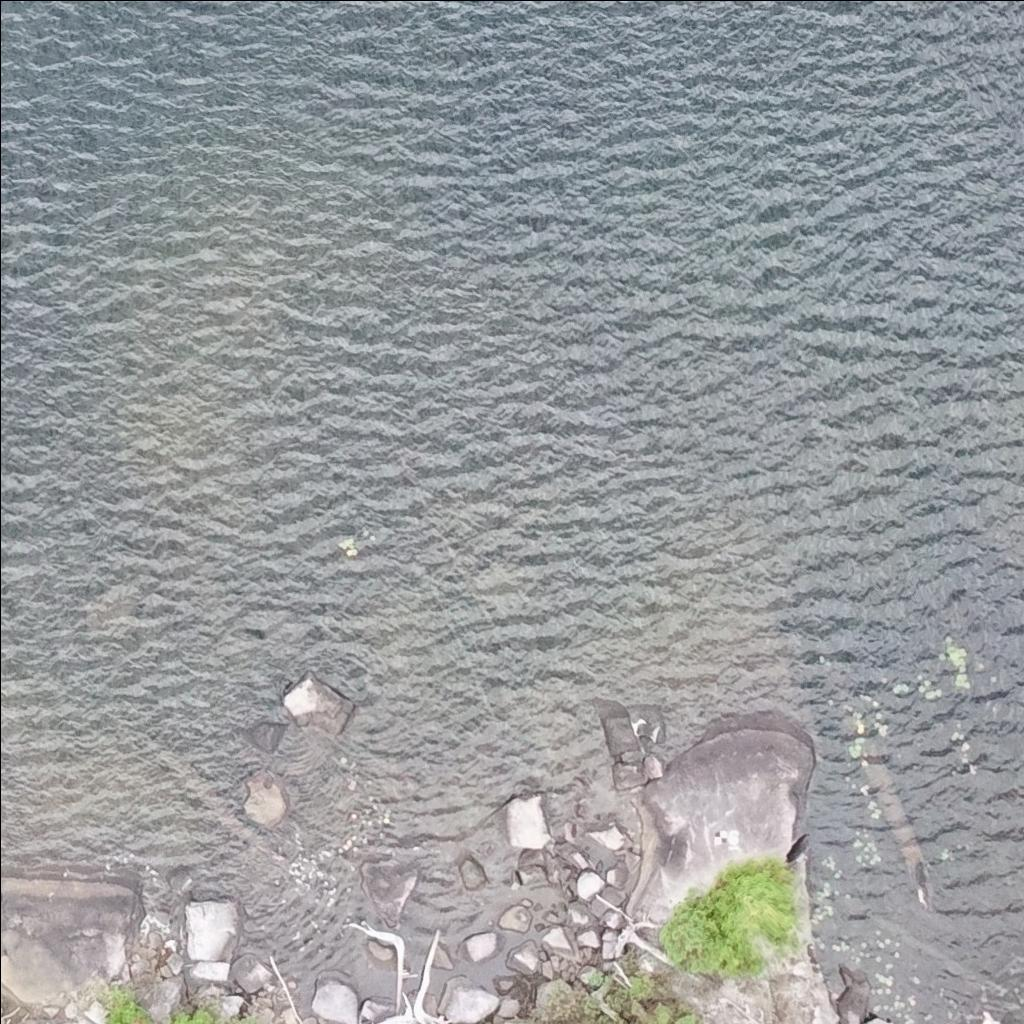crown: (711, 860, 795, 958)
